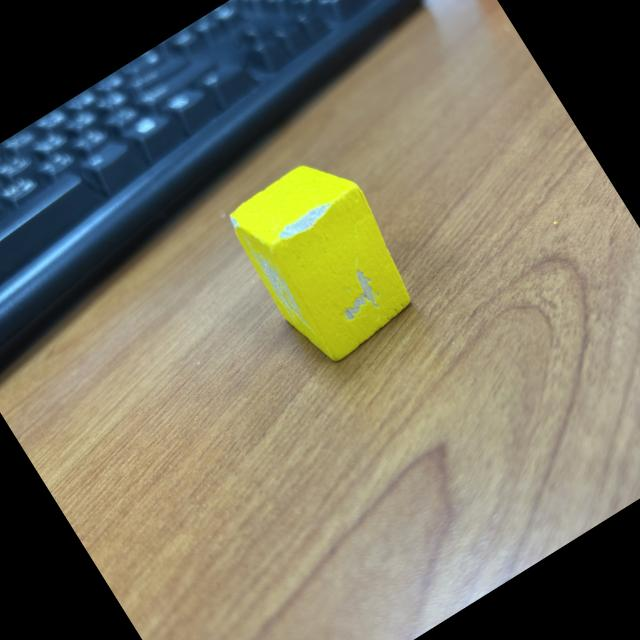broken: (218, 143, 434, 374)
